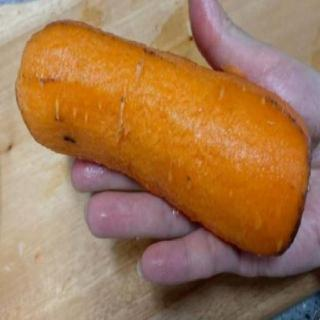carrot: (13, 15, 313, 264)
